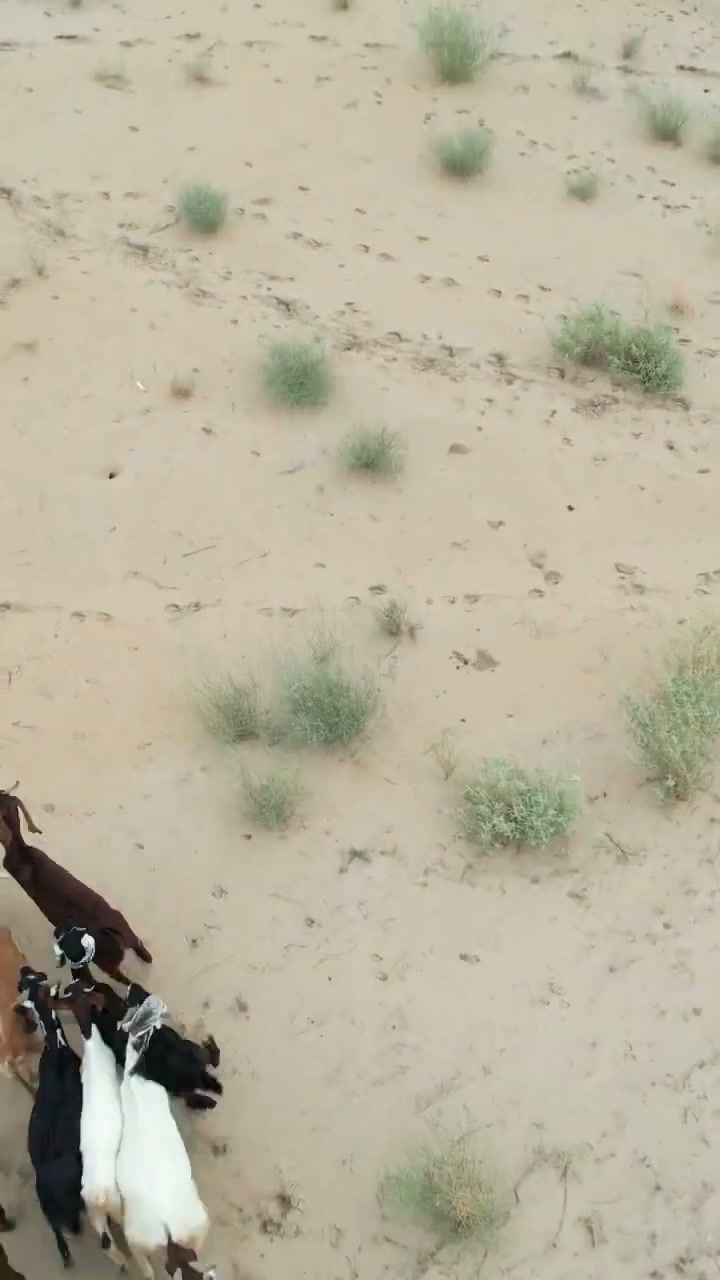animal_foot_print: (191, 1116, 309, 1268)
